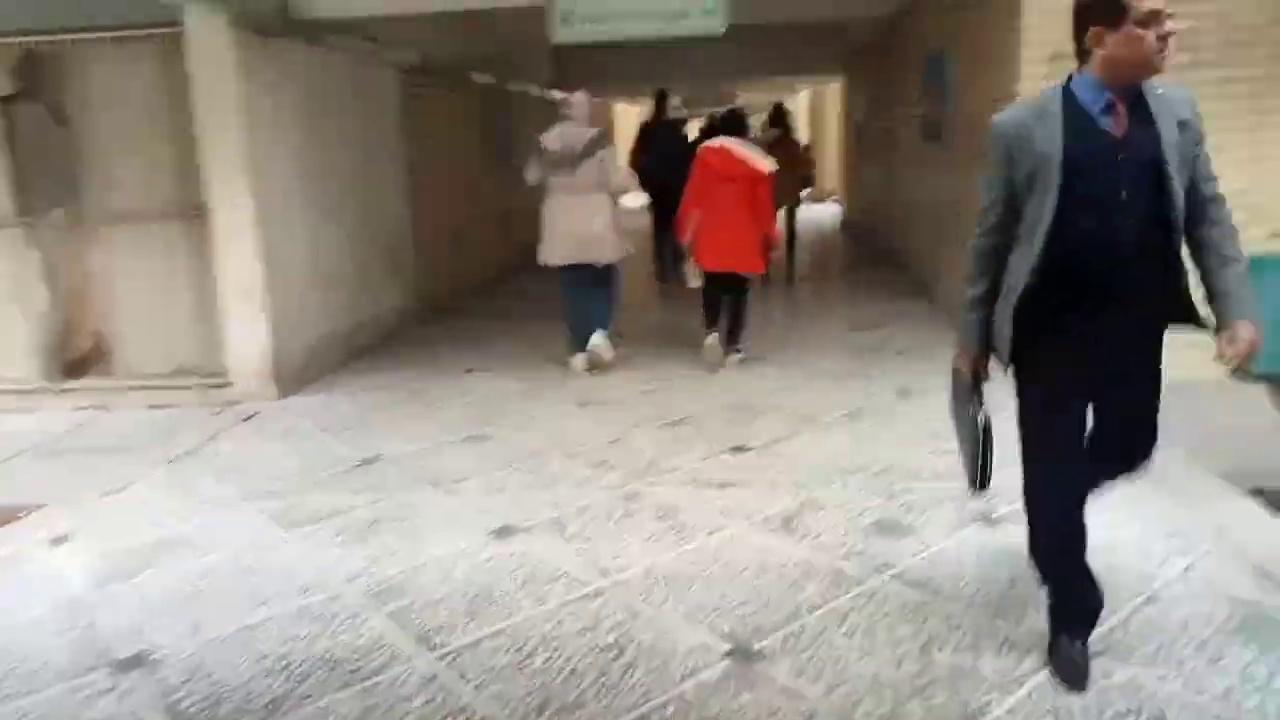person: (950, 0, 1261, 692), (521, 87, 645, 371), (673, 107, 779, 366), (627, 87, 692, 289)
tree: (949, 350, 994, 494)
